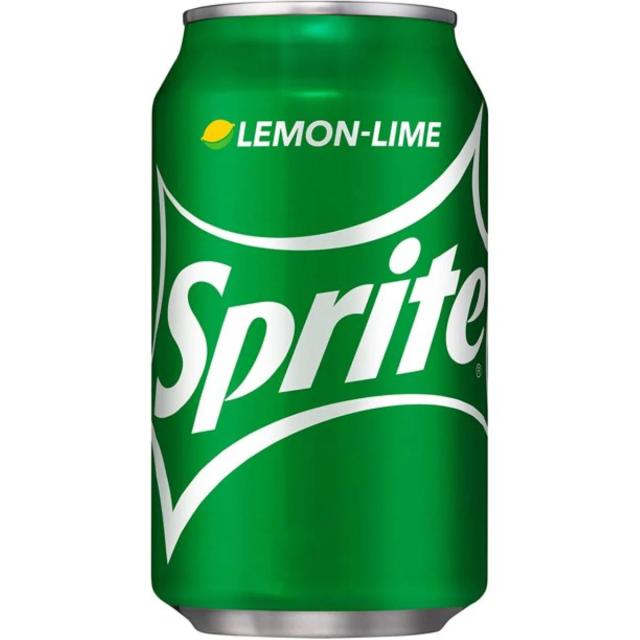aluminum_can: (152, 1, 487, 638)
